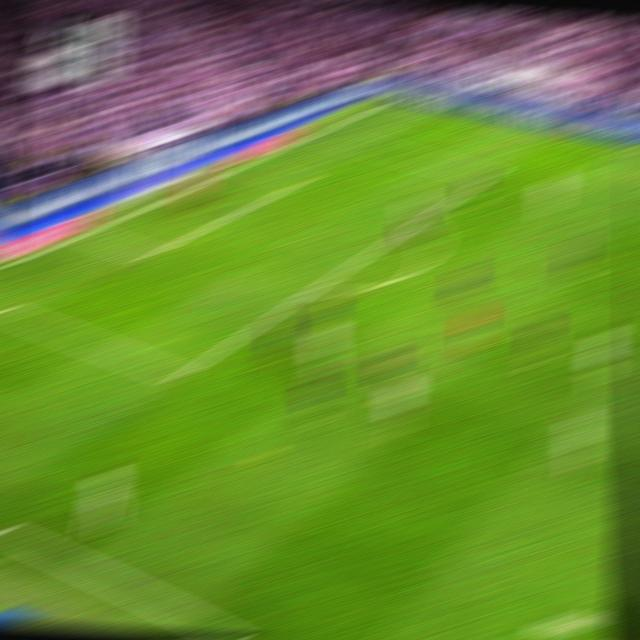bigarea_bottom_inner: (169, 366, 193, 386)
bigarea_top_inner: (478, 169, 499, 180)
bottom_arc_area_intersection: (299, 282, 324, 298)
corner: (381, 98, 402, 102)
smallarea_top_inner: (290, 177, 310, 185)
top_arc_area_intersection: (408, 217, 428, 228)
